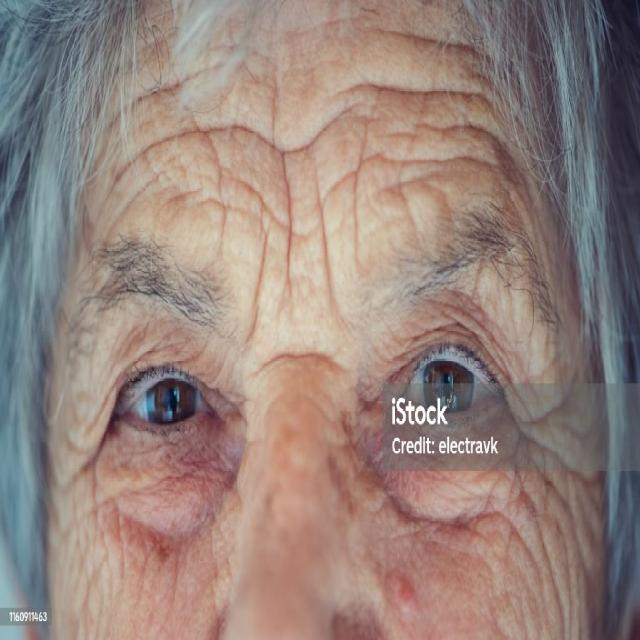Dry-Skin: (340, 465, 567, 640), (242, 98, 400, 276), (58, 447, 179, 640)
